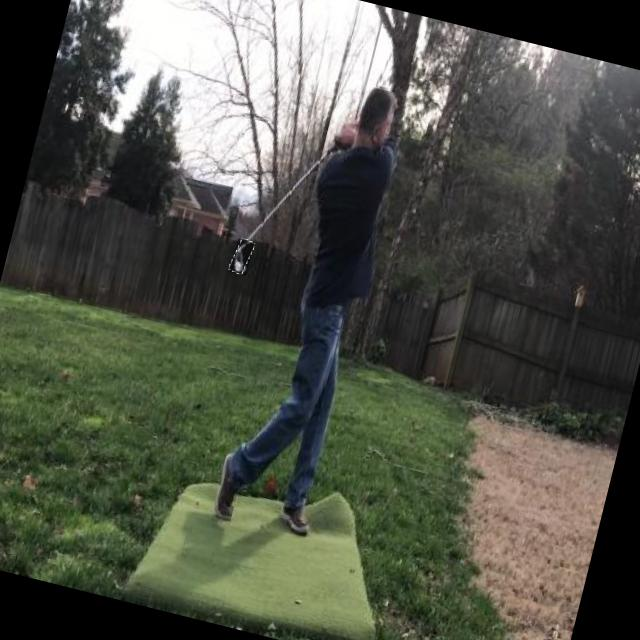club head: (229, 238, 254, 276)
